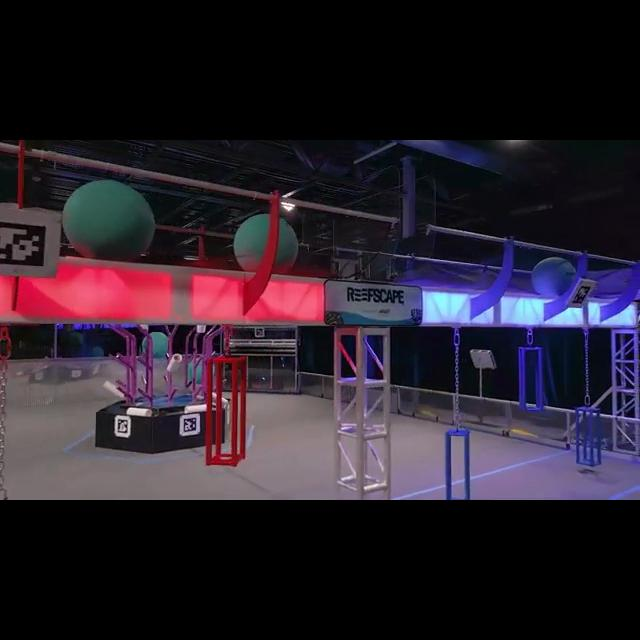ALGAE: (61, 178, 156, 262), (234, 212, 298, 276), (532, 257, 578, 297)
